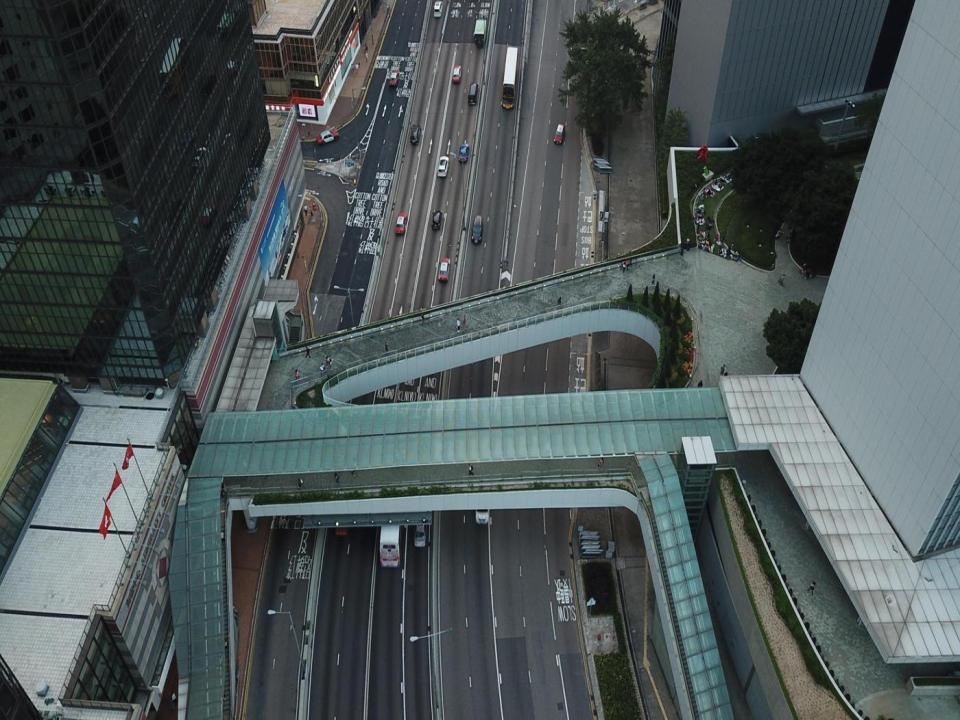bus: (380, 497, 400, 567), (501, 44, 518, 111), (474, 19, 486, 47)
car: (474, 494, 490, 524), (334, 512, 349, 536), (414, 518, 426, 547), (437, 258, 450, 282), (472, 215, 482, 245), (316, 130, 338, 143), (395, 214, 407, 234), (437, 156, 448, 176), (410, 124, 421, 144), (554, 124, 564, 144), (432, 210, 442, 229), (458, 142, 468, 161), (389, 72, 398, 87), (452, 66, 460, 81)
van: (468, 82, 479, 105), (434, 1, 442, 17)
